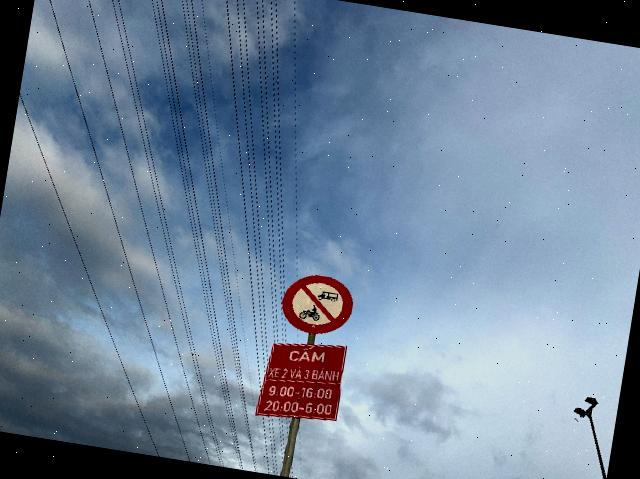cam-xe-2-banh-3-banh: (278, 269, 358, 340)
